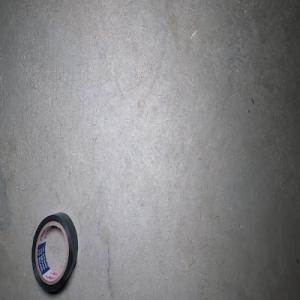Tape: (31, 212, 78, 294)
